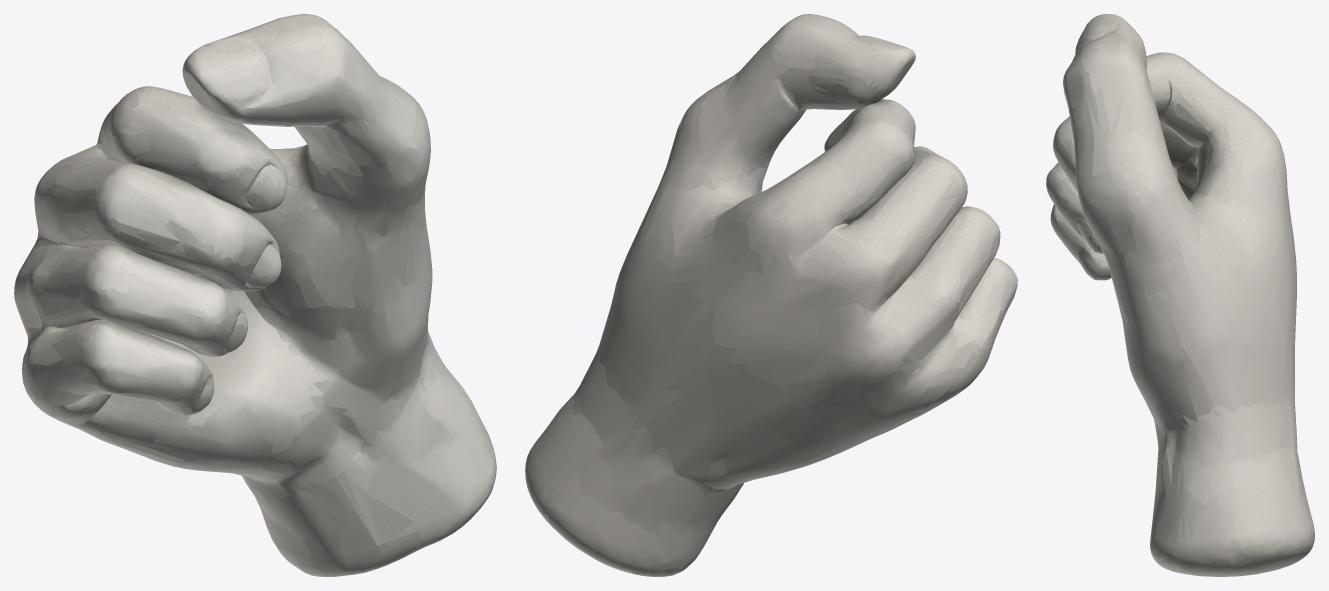
The model's file is mano_presa.glb.
3 views of the same model, side by side, from view 1: azimuth 30°, elevation 25°; view 2: azimuth 150°, elevation 25°; view 3: azimuth 270°, elevation 25° (orthographic). The views are drawn at different scales.
Visible parts, largest first — view 1: Mesh_0; view 2: Mesh_0; view 3: Mesh_0.
Boxes of the visible parts, x1,y1,x2,y2 form: Mesh_0: (14,14,496,576); Mesh_0: (525,14,1017,576); Mesh_0: (1046,14,1314,576).
Size of the model in its own units: 1.57 by 1.9 by 0.9517.
1 material, 1 textured.
